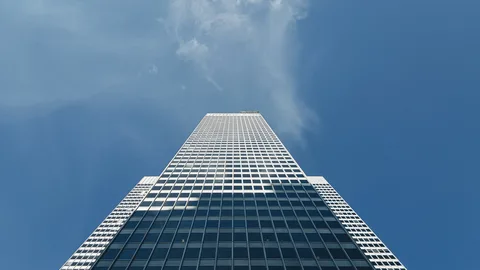high_rise_building: (175, 100, 306, 270)
